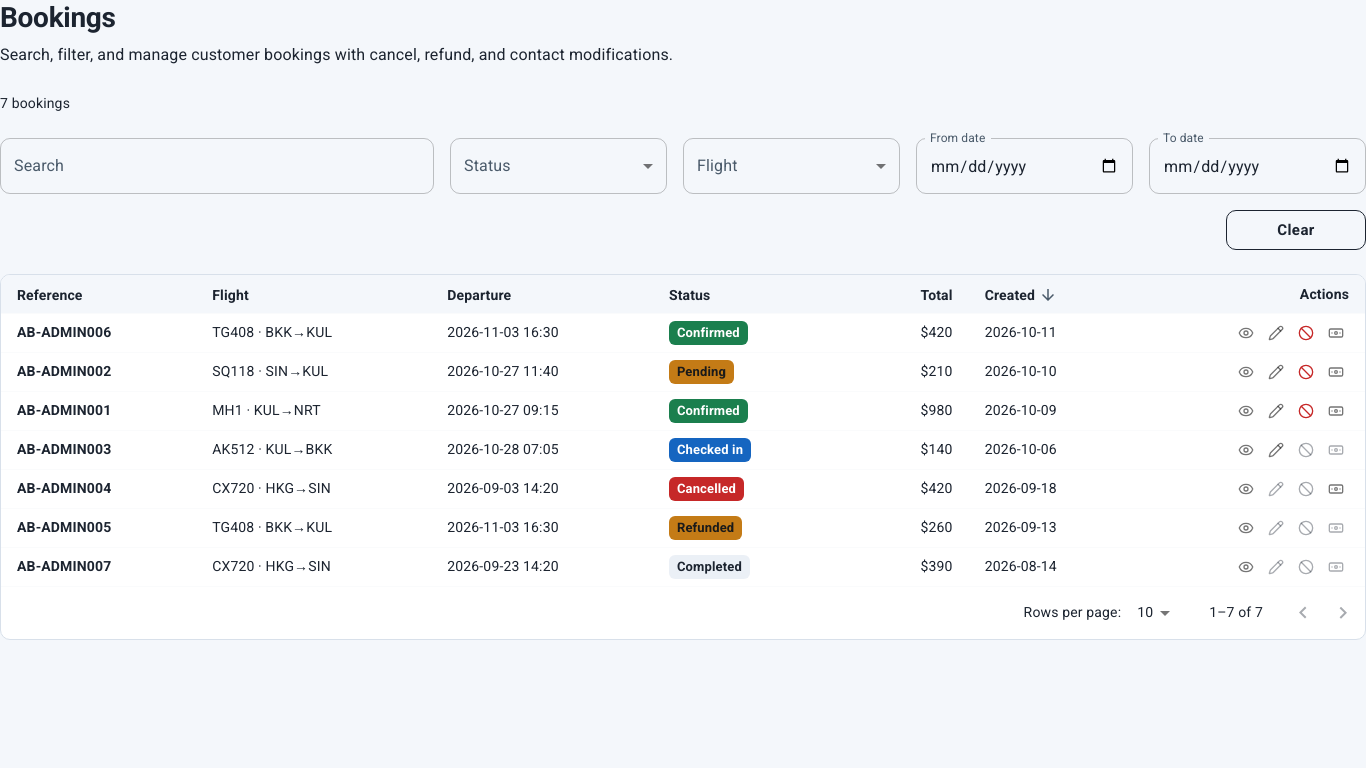
Scenario: AdminBookingsPage › modifies primary contact details
Expected: the text "AB-ADMIN001" is shown, [17,402,111,418]
Click the button named "Modify AB-ADMIN001".
click(1276, 411)  # box [1263,398,1289,424]
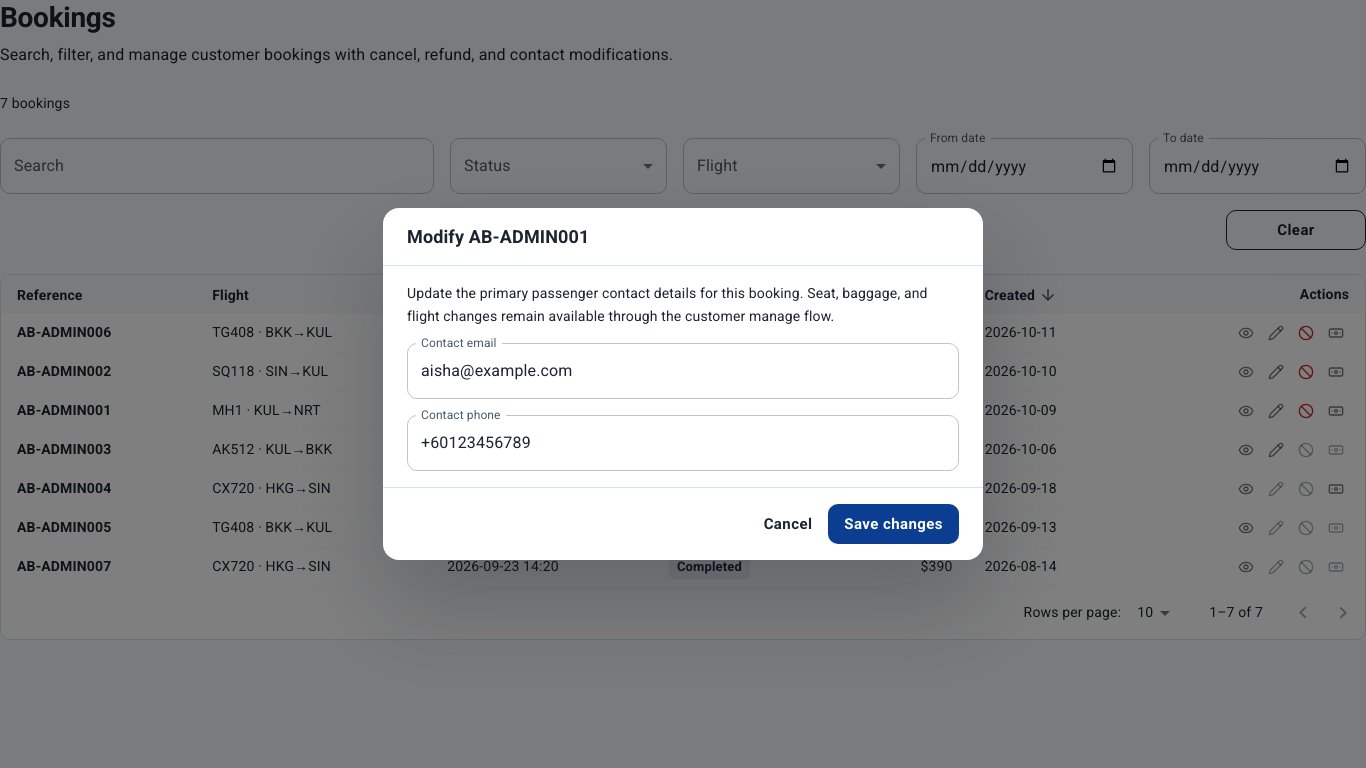
Replace the text in the field labelled "Contact email" with "aisha.updated@example.com" at coordinates (683, 371), box [407,343,959,399]
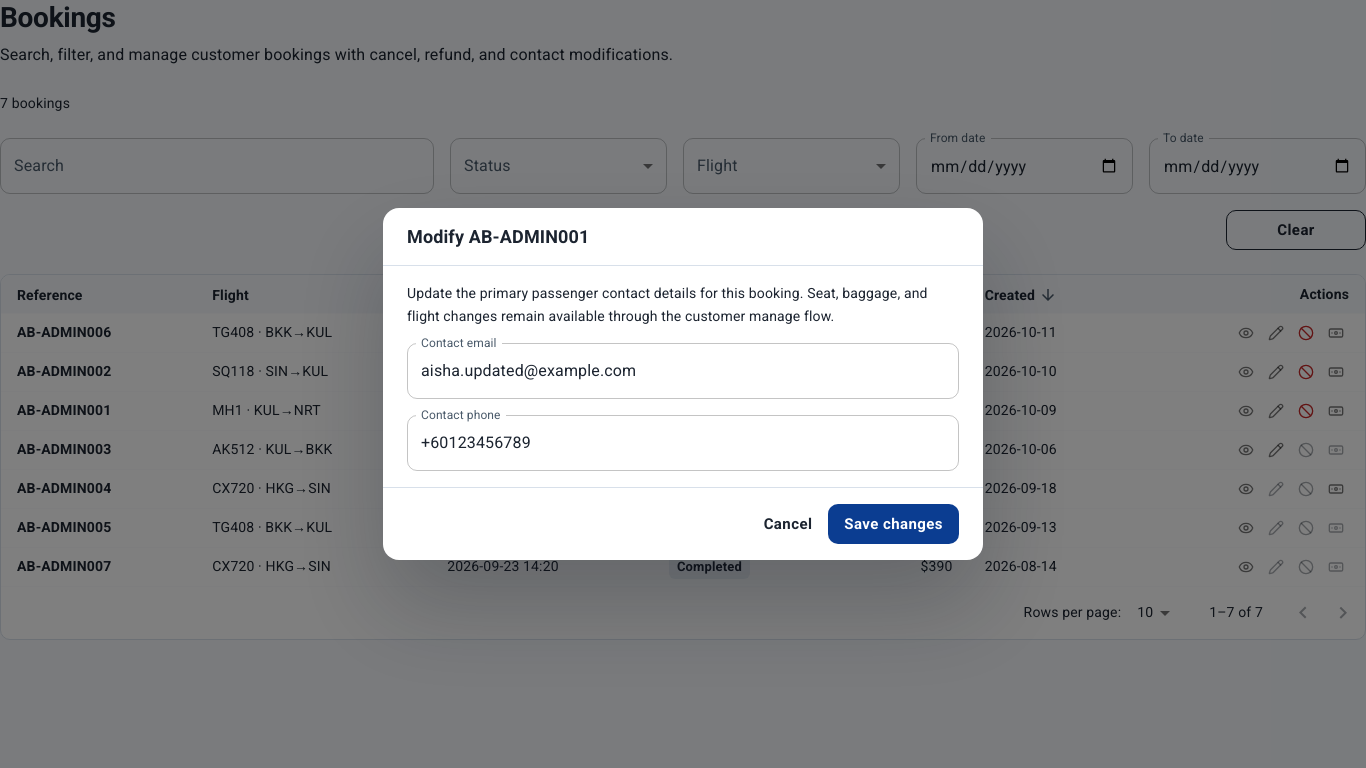
Click the button "Save changes".
click(894, 524)  # box [828,504,959,544]
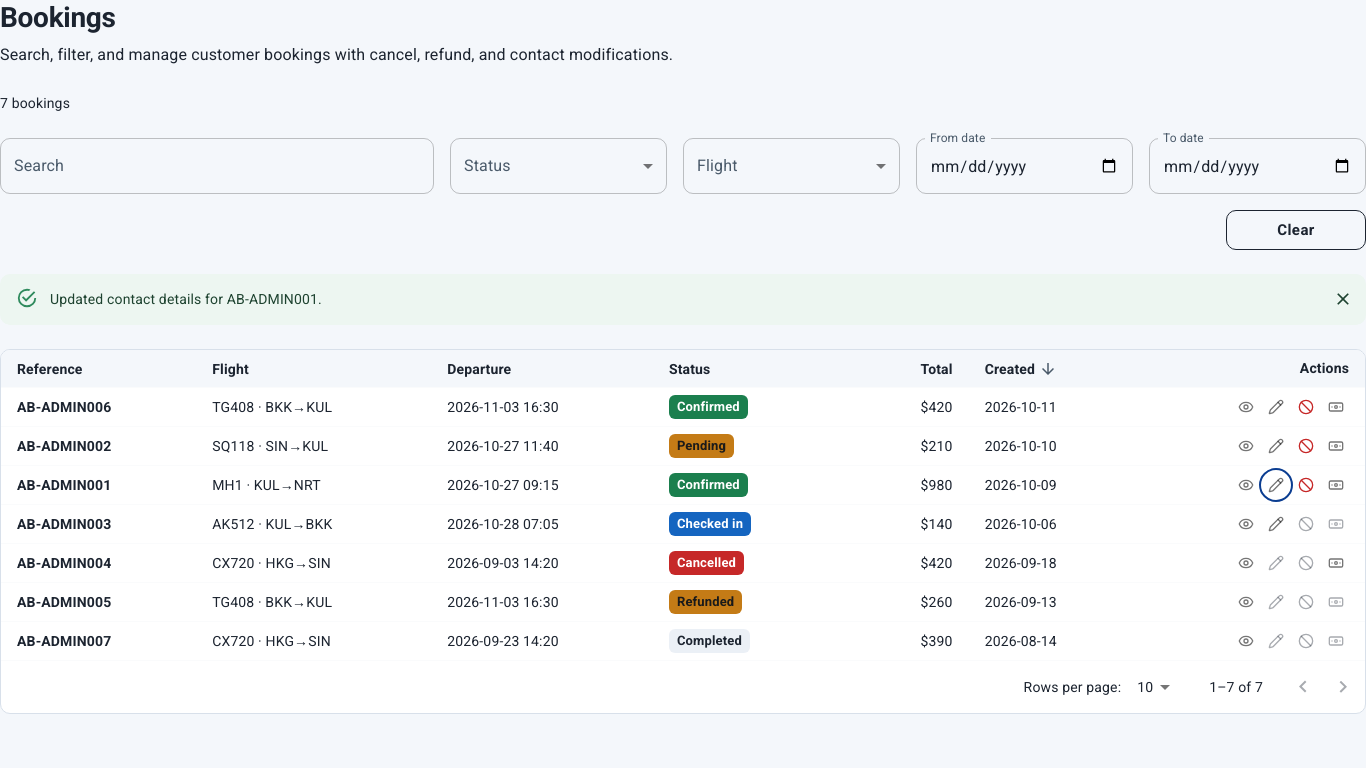
Result: the text "Updated contact details for AB-ADMIN001." is shown at [50,291,322,307]
